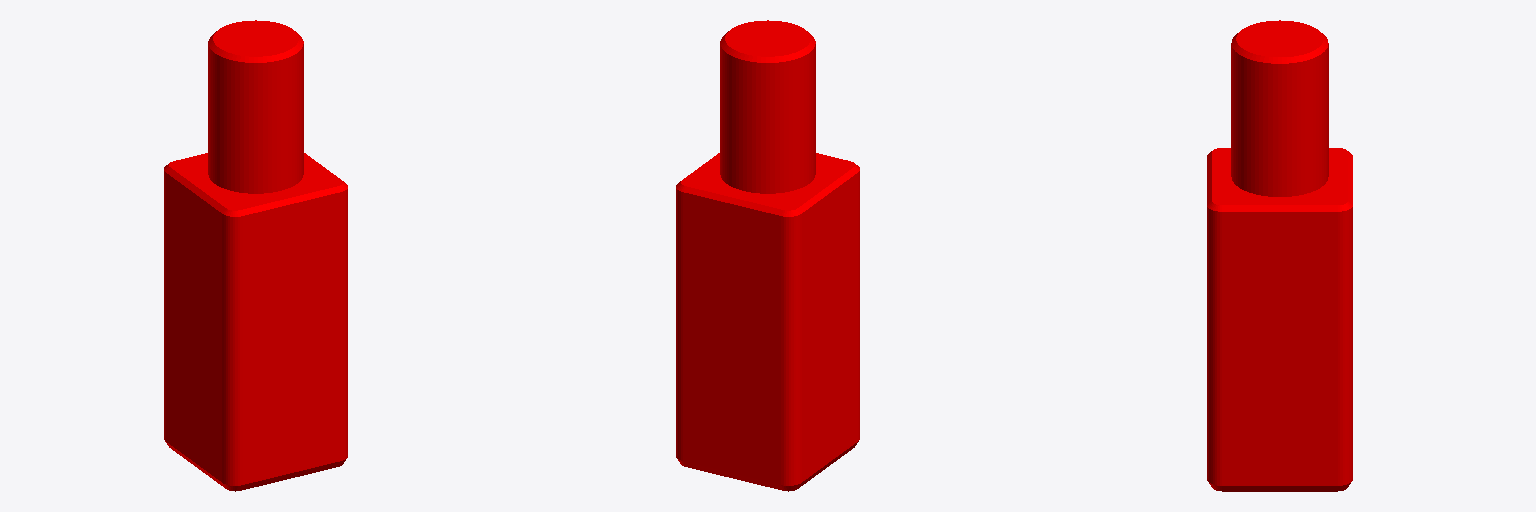
URDF robot description (shaft1):
<?xml version="1.0"?>
<robot name="shaft1">
    <link name="shaft1">
        <visual>
            <origin xyz="0 0 0 " rpy=" 0 0 0"/>
            <geometry>
                <mesh filename="gearbox_meshes/shaft1_precise.stl"/>
            </geometry>
            <material name="red">
                <color rgba="1.0 0.0 0.0 1.0"/>
            </material>
        </visual>
        <collision>
            <origin xyz="0 0 0" rpy="0 0 0"/>
            <geometry>
                <mesh filename="gearbox_meshes/shaft1_precise.stl"/>
            </geometry>
            <sdf resolution="256"/>
        </collision>
    </link>
</robot>

--- What the picture shows (computed from the rendered views, not written in the file) ---
Views: 3 orthographic renders of the robot side by side, from view 1: azimuth 30°, elevation 25°; view 2: azimuth 150°, elevation 25°; view 3: azimuth 270°, elevation 25°.
Robot: shaft1 — 1 links, 0 joints (none); root link shaft1; default pose: every joint at zero.
Links seen in each view (by area): view 1: shaft1; view 2: shaft1; view 3: shaft1.
Boxes of the visible links, x1,y1,x2,y2 form: shaft1: [164, 20, 347, 491]; shaft1: [676, 20, 859, 491]; shaft1: [1207, 20, 1352, 491].
Bounding box of the posed robot: 0.036 × 0.036 × 0.1155 m (x, y, z).
1 mesh visuals loaded from 1 distinct referenced files (1 binary STL).
